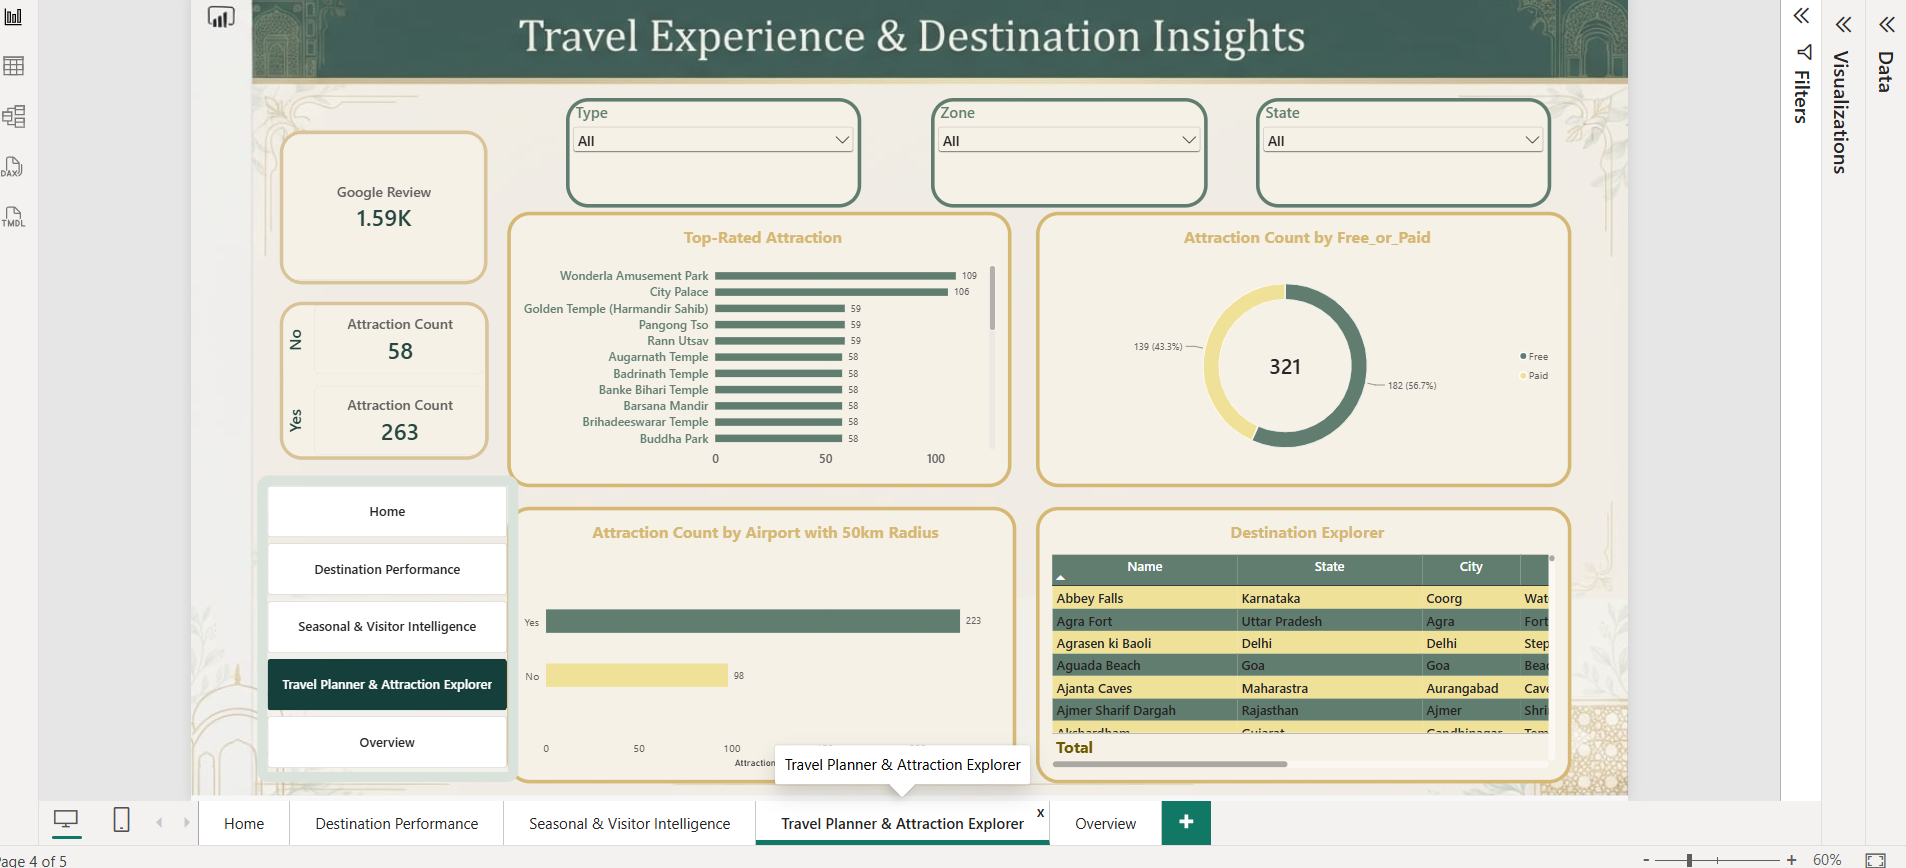

Layout of this report page (visuals, bound fields, positions):
{"tool":"powerbi","page":{"name":"Travel Planner & Attraction Explorer","canvas":[1920,1080],"ordinal":3},"visuals":[{"type":"barChart","title":"Top-Rated Attraction","fields":{"Category":["Top_Indian_Places.Name"],"Y":["Sum(Top_Indian_Places.Google review rating)"]},"box":[422.1,293,673.3,368],"z":0},{"type":"donutChart","fields":{"Category":["Top_Indian_Places.Free_or_Paid"],"Y":["Top_Indian_Places.Attraction Count"]},"box":[1128.5,293,715.1,368],"z":1},{"type":"barChart","fields":{"Category":["Top_Indian_Places.Airport with 50km Radius"],"Y":["Top_Indian_Places.Attraction Count"]},"box":[422.1,685.5,680.2,369.8],"z":2},{"type":"tableEx","title":"Destination Explorer","fields":{"Values":["Top_Indian_Places.Name","Top_Indian_Places.State","Top_Indian_Places.City","Top_Indian_Places.Type","Top_Indian_Places.Average Rating","Sum(Top_Indian_Places.Entrance Fee in INR)","Top_Indian_Places.Best Time to visit","Top_Indian_Places.Weekly Off"]},"box":[1128.5,685.5,715.1,369.8],"z":3},{"type":"cardVisual","fields":{"Data":["Top_Indian_Places.Attraction Count"],"Rows":["Top_Indian_Places.DSLR Allowed"]},"box":[118.6,411.6,279.1,211],"z":5},{"type":"slicer","fields":{"Values":["Top_Indian_Places.State"]},"box":[1423.3,139.5,394.2,146.5],"z":6},{"type":"slicer","fields":{"Values":["Top_Indian_Places.Type"]},"box":[500.6,139.5,394.2,146.5],"z":7},{"type":"cardVisual","fields":{"Data":["Sum(Top_Indian_Places.Number of google review in lakhs)"]},"box":[118.6,183.1,277.3,205.8],"z":9},{"type":"pageNavigator","box":[89,645.4,348.8,409.9],"z":10},{"type":"slicer","fields":{"Values":["Top_Indian_Places.Zone"]},"box":[989,139.5,369.8,146.5],"z":11}]}

Visuals, with their boxes on the page's 1920x1080 design canvas (x1, y1, x2, y2). These are canvas units, not pixel positions in the 1906x868 screenshot, which may show the page scaled, cropped or inside an application window:
"Top-Rated Attraction" barChart: [left=422, top=293, right=1095, bottom=661]
donutChart - Top_Indian_Places.Free_or_Paid x Top_Indian_Places.Attraction Count: [left=1128, top=293, right=1844, bottom=661]
barChart - Top_Indian_Places.Airport with 50km Radius x Top_Indian_Places.Attraction Count: [left=422, top=686, right=1102, bottom=1055]
"Destination Explorer" tableEx: [left=1128, top=686, right=1844, bottom=1055]
cardVisual - Top_Indian_Places.Attraction Count x Top_Indian_Places.DSLR Allowed: [left=119, top=412, right=398, bottom=623]
slicer - Top_Indian_Places.State: [left=1423, top=140, right=1818, bottom=286]
slicer - Top_Indian_Places.Type: [left=501, top=140, right=895, bottom=286]
cardVisual - Sum(Top_Indian_Places.Number of google review in lakhs): [left=119, top=183, right=396, bottom=389]
pageNavigator: [left=89, top=645, right=438, bottom=1055]
slicer - Top_Indian_Places.Zone: [left=989, top=140, right=1359, bottom=286]
